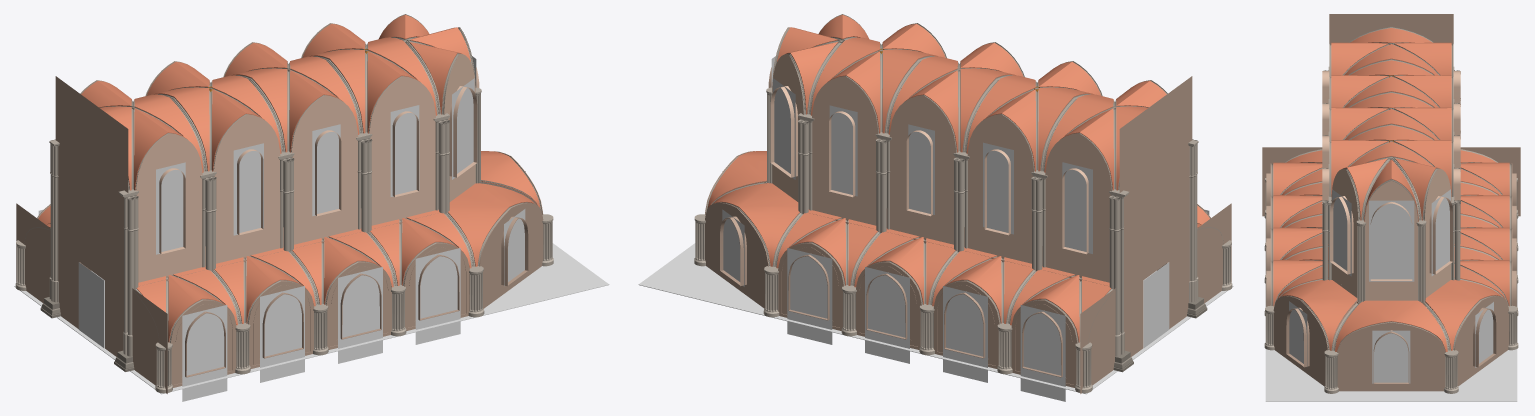
File: eglise-sketchfab5.fbx
3 views of the same model, side by side, from view 1: azimuth 30°, elevation 25°; view 2: azimuth 150°, elevation 25°; view 3: azimuth 270°, elevation 25° (orthographic). The views are drawn at different scales.
Parts seen in each view (by area): view 1: Circle.019, Circle.001, Cube.003, TexturesCom_WindowStainedGlass0084_1_M.000, Circle.050, Cylinder.004, TexturesCom_WindowStainedGlass0098_1_M.000, Circle.055, Circle.051, Circle.020, Doors_Old_Wooden_1.003, vitrail-fond.001 (+2 smaller); view 2: Circle.019, Circle.001, Cube.003, TexturesCom_WindowStainedGlass0084_1_M.000, Circle.050, Cylinder.004, TexturesCom_WindowStainedGlass0098_2_M.000, Circle.055, Circle.051, Circle.020, Doors_Old_Wooden_1.003, vitrail-fond.002 (+2 smaller); view 3: Circle.019, Circle.050, Circle.001, Circle.055, Circle.051, Cube.003, vitrail-fond.000, Cylinder.004, Circle.020, vitrail-fond.004, vitrail-fond.002, vitrail-fond.001 (+3 smaller).
Boxes of the visible parts, x1,y1,x2,y2 form: Circle.019: [38, 14, 540, 342]; Circle.001: [80, 23, 479, 282]; Cube.003: [16, 76, 167, 393]; TexturesCom_WindowStainedGlass0084_1_M.000: [38, 209, 460, 401]; Circle.050: [37, 151, 543, 387]; Cylinder.004: [49, 87, 481, 356]; TexturesCom_WindowStainedGlass0098_1_M.000: [156, 105, 419, 254]; Circle.055: [24, 23, 542, 342]; Circle.051: [14, 243, 609, 394]; Circle.020: [15, 214, 553, 393]; Doors_Old_Wooden_1.003: [78, 262, 104, 347]; vitrail-fond.001: [452, 78, 474, 179]; Circle.019: [707, 14, 1209, 342]; Circle.001: [768, 23, 1167, 282]; Cube.003: [1080, 76, 1231, 393]; TexturesCom_WindowStainedGlass0084_1_M.000: [787, 209, 1209, 401]; Circle.050: [705, 151, 1210, 387]; Cylinder.004: [766, 87, 1198, 356]; TexturesCom_WindowStainedGlass0098_2_M.000: [829, 105, 1092, 253]; Circle.055: [705, 23, 1223, 342]; Circle.051: [638, 243, 1233, 394]; Circle.020: [694, 214, 1232, 393]; Doors_Old_Wooden_1.003: [1143, 262, 1169, 347]; vitrail-fond.002: [773, 78, 795, 179]; Circle.019: [1273, 28, 1509, 351]; Circle.050: [1266, 163, 1516, 391]; Circle.001: [1322, 71, 1460, 300]; Circle.055: [1271, 26, 1511, 351]; Circle.051: [1265, 349, 1517, 401]; Cube.003: [1262, 14, 1520, 216]; vitrail-fond.000: [1369, 200, 1414, 281]; Cylinder.004: [1322, 67, 1460, 302]; Circle.020: [1264, 178, 1518, 393]; vitrail-fond.004: [1372, 330, 1410, 383]; vitrail-fond.002: [1431, 189, 1450, 275]; vitrail-fond.001: [1332, 189, 1351, 276].
Bounding box in the file's own units: 9094 × 4825 × 5253.
